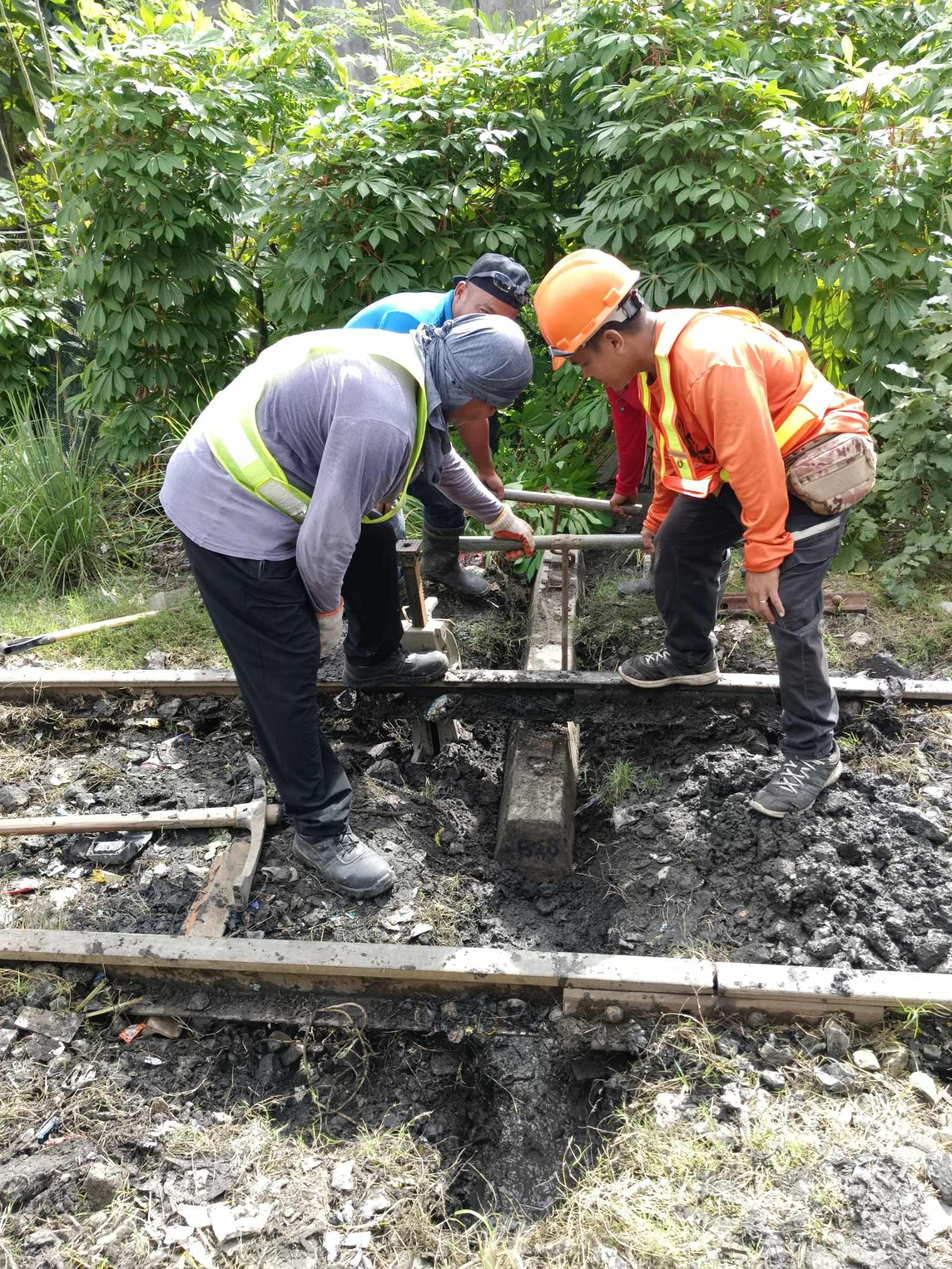railway-gap: (671, 935, 761, 1027)
